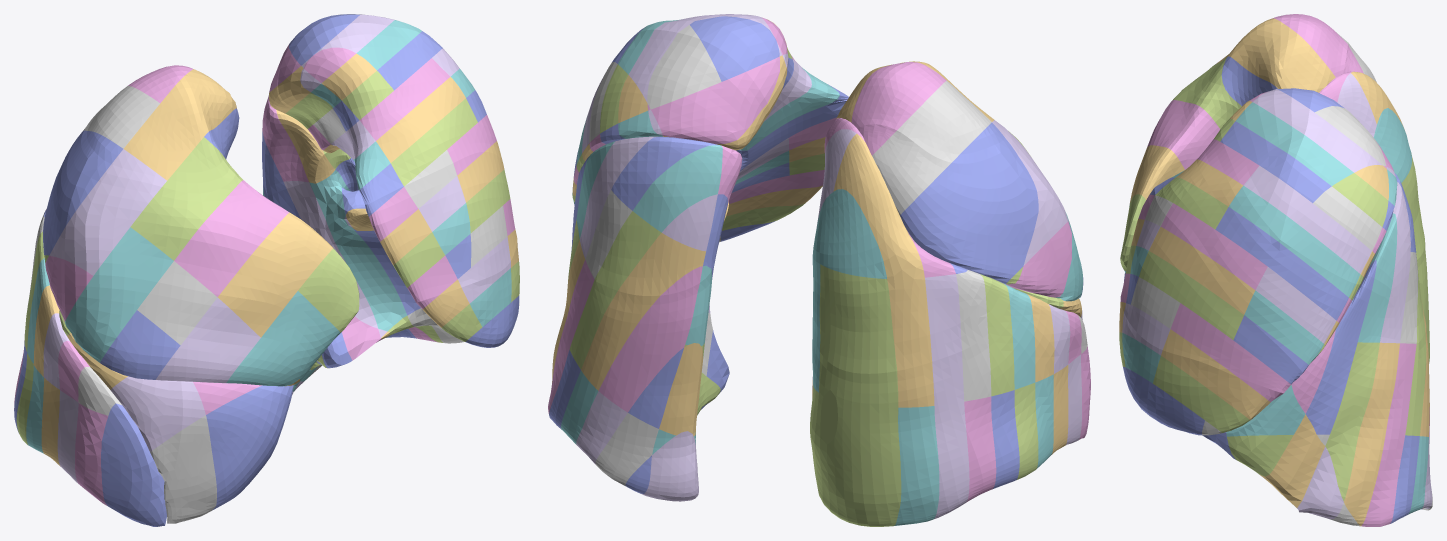
The model's file is lung-female-small.glb.
3 views of the same model, side by side, from view 1: azimuth 30°, elevation 25°; view 2: azimuth 150°, elevation 25°; view 3: azimuth 270°, elevation 25° (orthographic). The views are drawn at different scales.
Parts seen in each view (by area): view 1: RML-1A2, RLL-1A3, RML-1A3, RML-2A3, RUL-5A2, RUL-5A3, RUL-6A3, RUL-4A2, RUL-3A2, RUL-4A3, RUL-3A1, RUL-2A2 (+77 smaller); view 2: RLL-11A2, RLL-11A3, RLL-10A1, RLL-10A2, RUL-1A4, RLL-10A3, RUL-1A3, LLL-5A1, RLL-9A2, RLL-11A1, RUL-1B3, LLL-4A2 (+72 smaller); view 3: RUL-2A5, RUL-4A4, LLL-8A3, LLL-9B4, LLL-9A3, LUL-8A4, LUL-7A4, LUL-9A4, LLL-7A4, LUL-6A4, LLL-7A3, LUL-10A4 (+69 smaller).
Boxes of the visible parts, left/top/right/bottom form: RML-1A2: left=206, top=387, right=270, bottom=510; RLL-1A3: left=101, top=416, right=162, bottom=526; RML-1A3: left=150, top=415, right=216, bottom=523; RML-2A3: left=110, top=376, right=205, bottom=452; RUL-5A2: left=181, top=297, right=260, bottom=383; RUL-5A3: left=217, top=251, right=297, bottom=337; RUL-6A3: left=261, top=291, right=340, bottom=378; RUL-4A2: left=137, top=261, right=217, bottom=345; RUL-3A2: left=93, top=227, right=173, bottom=309; RUL-4A3: left=174, top=215, right=254, bottom=296; RUL-3A1: left=66, top=276, right=136, bottom=362; RUL-2A2: left=52, top=196, right=129, bottom=275; RLL-11A2: left=819, top=264, right=898, bottom=407; RLL-11A3: left=819, top=393, right=901, bottom=526; RLL-10A1: left=833, top=133, right=924, bottom=279; RLL-10A2: left=887, top=277, right=934, bottom=407; RUL-1A4: left=895, top=80, right=991, bottom=175; RLL-10A3: left=894, top=406, right=939, bottom=525; RUL-1A3: left=939, top=122, right=1028, bottom=218; LLL-5A1: left=633, top=145, right=722, bottom=232; RLL-9A2: left=925, top=274, right=964, bottom=405; RLL-11A1: left=820, top=189, right=886, bottom=278; RUL-1B3: left=900, top=176, right=982, bottom=259; LLL-4A2: left=612, top=233, right=705, bottom=321; RUL-2A5: left=1228, top=18, right=1318, bottom=85; RUL-4A4: left=1148, top=100, right=1220, bottom=169; LLL-8A3: left=1330, top=342, right=1379, bottom=434; LLL-9B4: left=1260, top=434, right=1324, bottom=507; LLL-9A3: left=1306, top=342, right=1357, bottom=434; LUL-8A4: left=1255, top=267, right=1336, bottom=343; LUL-7A4: left=1268, top=244, right=1348, bottom=320; LUL-9A4: left=1244, top=290, right=1323, bottom=364; LLL-7A4: left=1344, top=434, right=1385, bottom=526; LUL-6A4: left=1281, top=223, right=1360, bottom=297; LLL-7A3: left=1359, top=342, right=1399, bottom=434; LUL-10A4: left=1233, top=315, right=1308, bottom=384.
Bounding box in the file's own units: 0.2511 × 0.223 × 0.1526.
